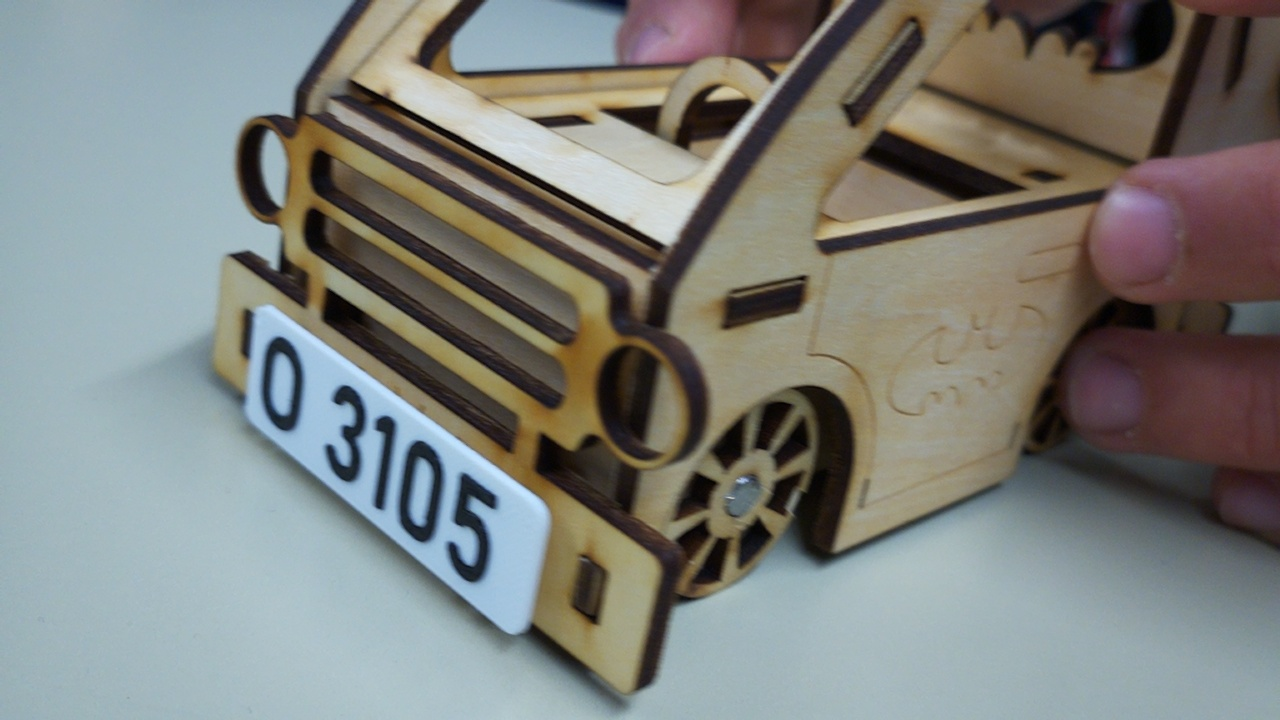license_plate: (242, 301, 558, 637)
